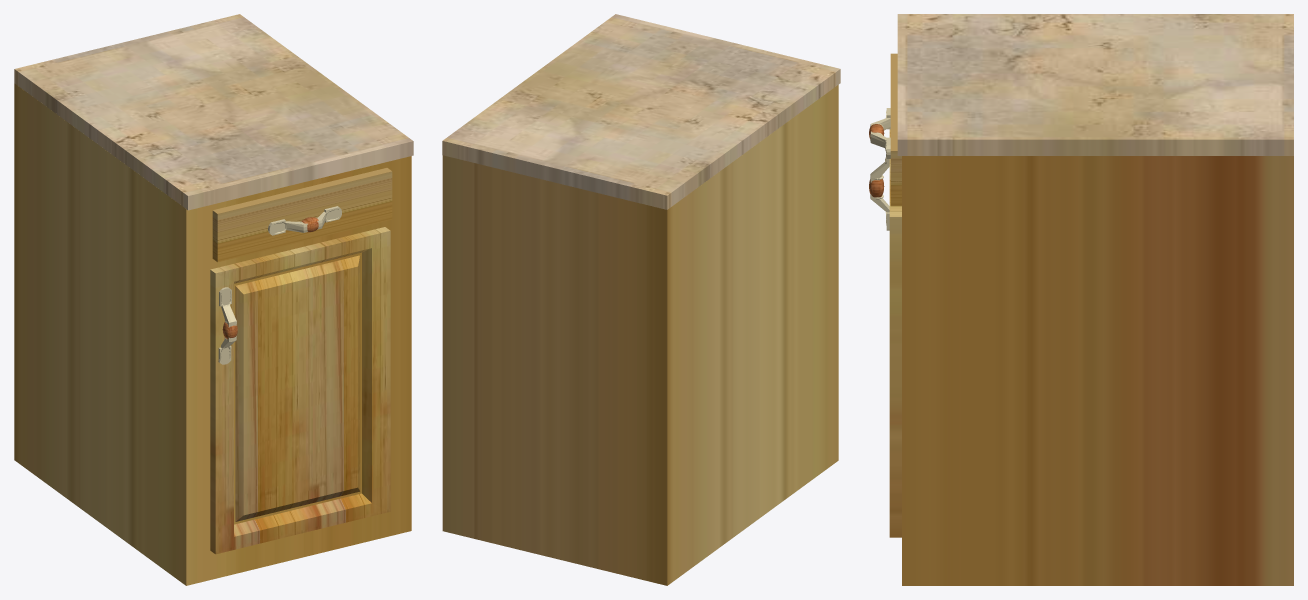
The model's file is 1DoorLowerCabinet.glb.
3 views of the same model, side by side, from view 1: azimuth 30°, elevation 25°; view 2: azimuth 150°, elevation 25°; view 3: azimuth 270°, elevation 25° (orthographic). The views are drawn at different scales.
Visible parts, largest first — view 1: Node4, Node8, Node1, Node12, Node7, Node10; view 2: Node4, Node1; view 3: Node4, Node1, Node8, Node12.
Part boxes in pixels (box(x1,y1,x2,y2)): Node4: box(14, 83, 411, 585); Node8: box(210, 227, 390, 554); Node1: box(14, 14, 413, 210); Node12: box(212, 168, 392, 262); Node7: box(268, 206, 341, 235); Node10: box(218, 287, 236, 364); Node4: box(442, 85, 838, 585); Node1: box(442, 14, 840, 209); Node4: box(902, 156, 1293, 585); Node1: box(897, 14, 1293, 155); Node8: box(889, 129, 901, 537); Node12: box(890, 53, 901, 206).
Bounding box in the file's own units: 3.94 × 6.54 × 5.64.
4 materials, 3 textured.
